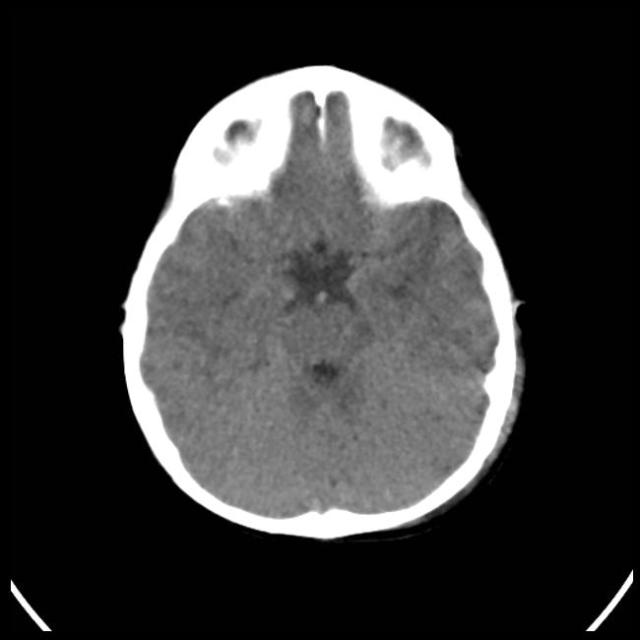lesion: (117, 64, 527, 541)
